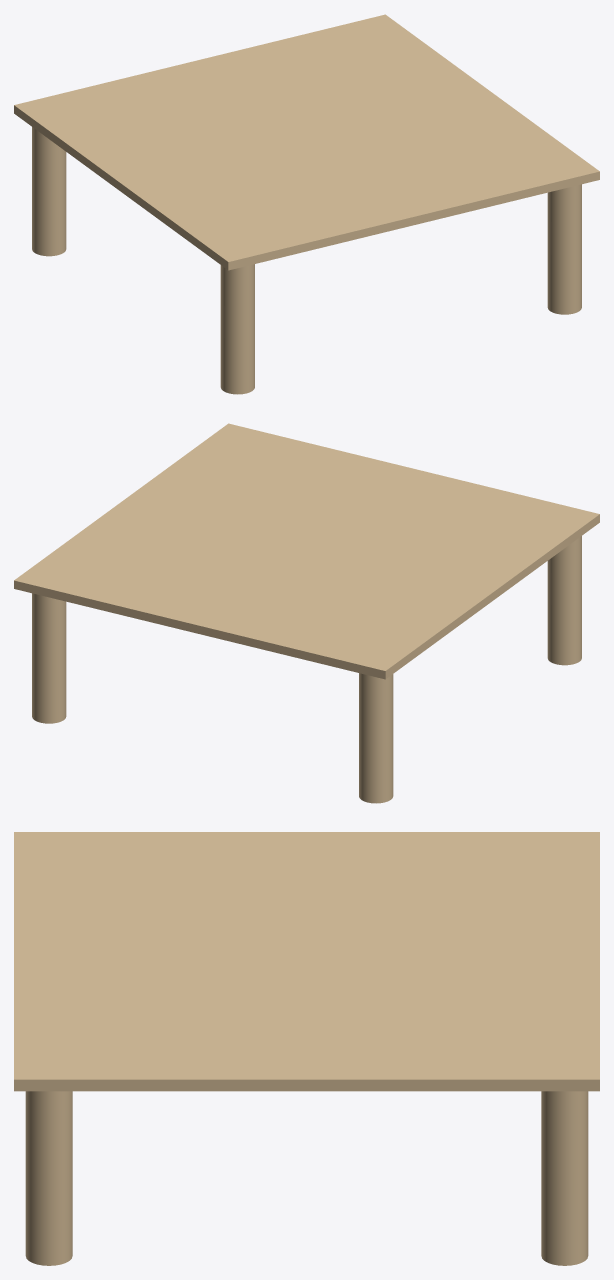
The model's file is ikea-stockholm-49305062-g2-proxy.glb.
3 views of the same model, one above another, from view 1: azimuth 30°, elevation 25°; view 2: azimuth 150°, elevation 25°; view 3: azimuth 270°, elevation 25° (orthographic). The views are drawn at different scales.
Visible parts, largest first — view 1: proxy_body, leg (×3); view 2: proxy_body, leg (×3); view 3: proxy_body, leg (×2).
Part boxes in pixels (box(x1,y1,x2,y2)): proxy_body: box(14, 14, 599, 270); leg (×3): box(32, 127, 581, 394); proxy_body: box(14, 423, 599, 679); leg (×3): box(32, 536, 581, 803); proxy_body: box(14, 832, 599, 1091); leg (×2): box(25, 1091, 588, 1265).
Bounding box in the file's own units: 1 × 0.36 × 1.
